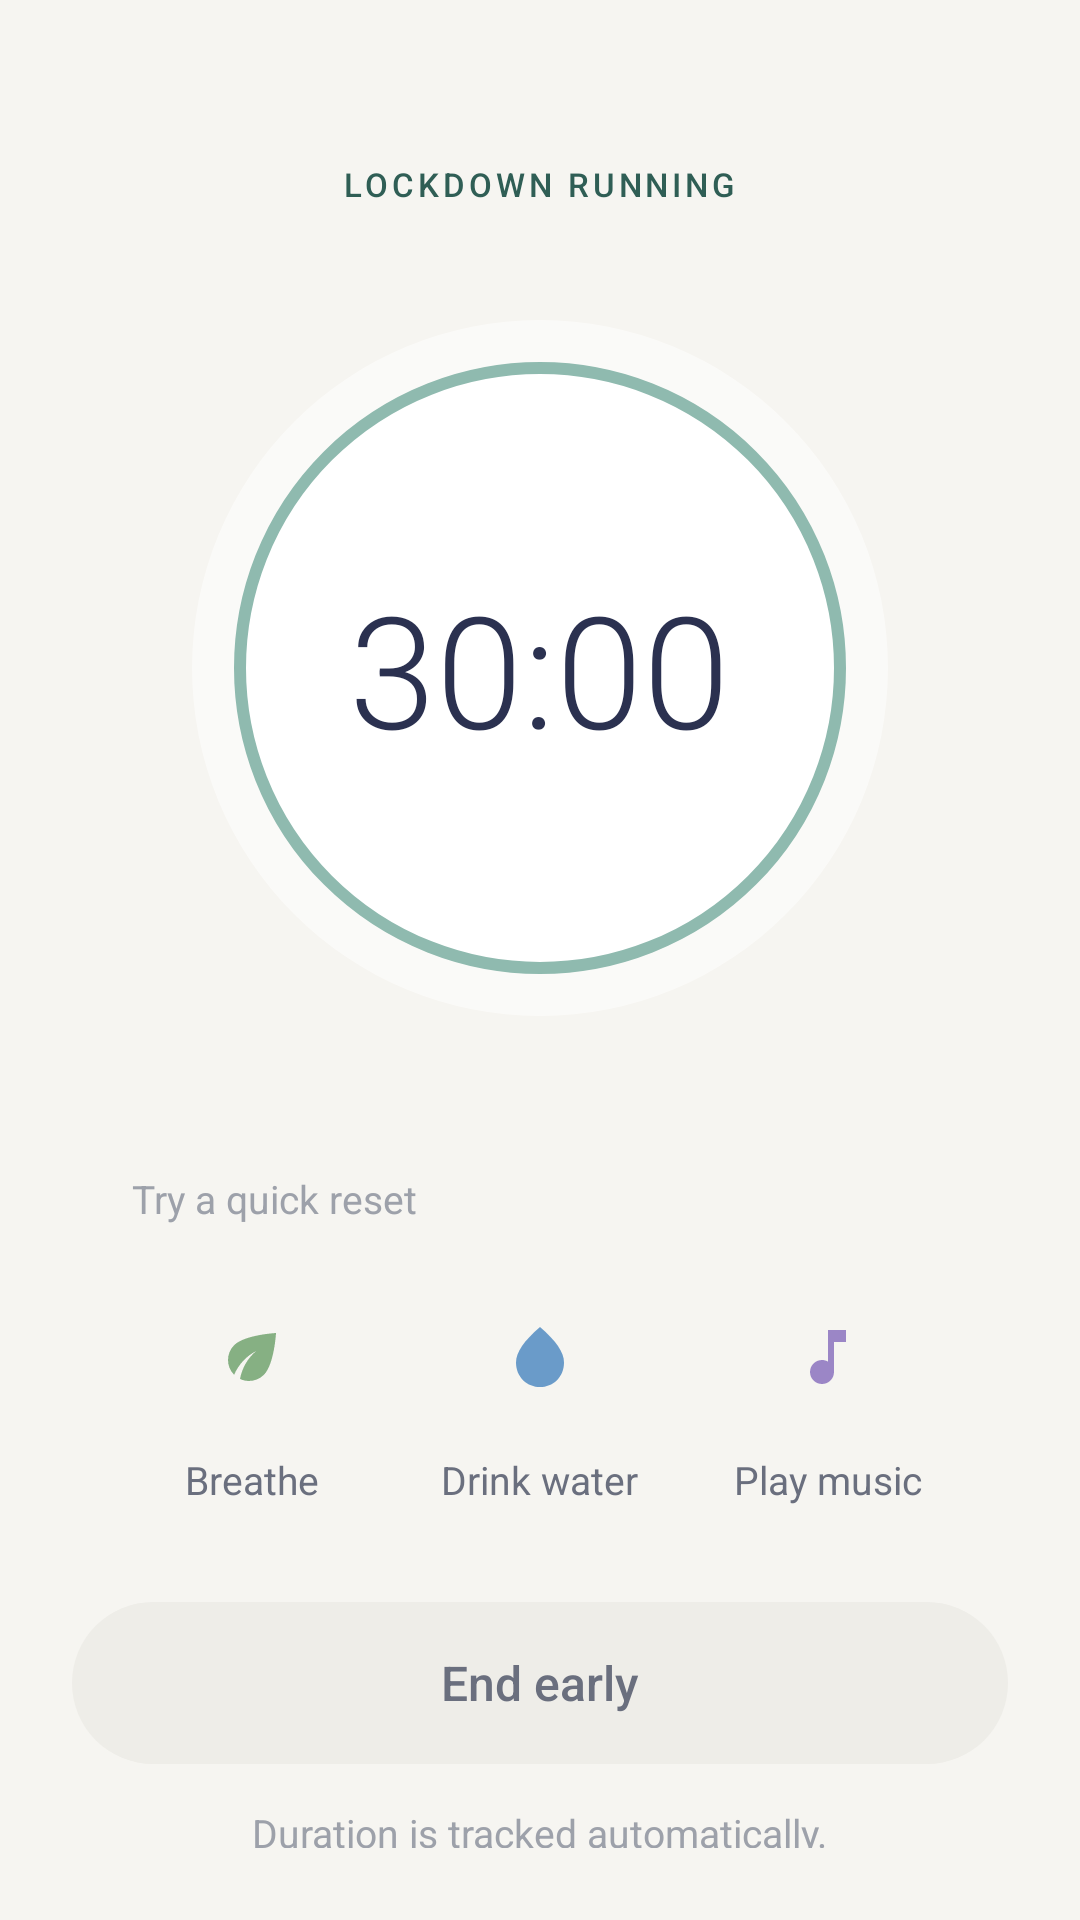

Screen size 1080px x 1920px. Icon name, then its box in pixels as bbox=[x1, y1, x2, y2]:
leaf: bbox=[228, 1333, 276, 1381]
